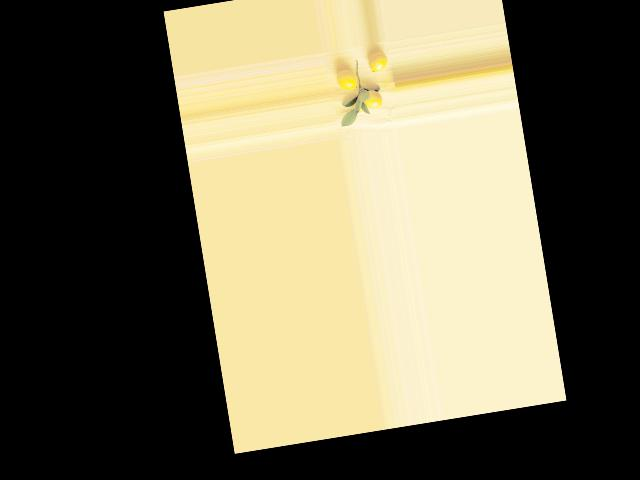lemon: (364, 47, 389, 75)
